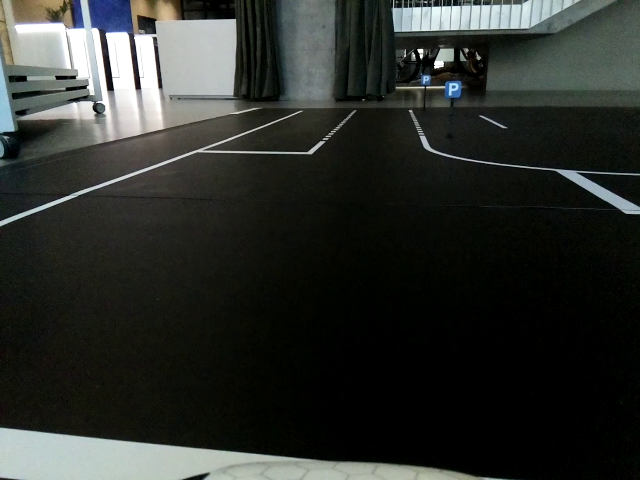park: (446, 82, 460, 97), (421, 76, 431, 85)
